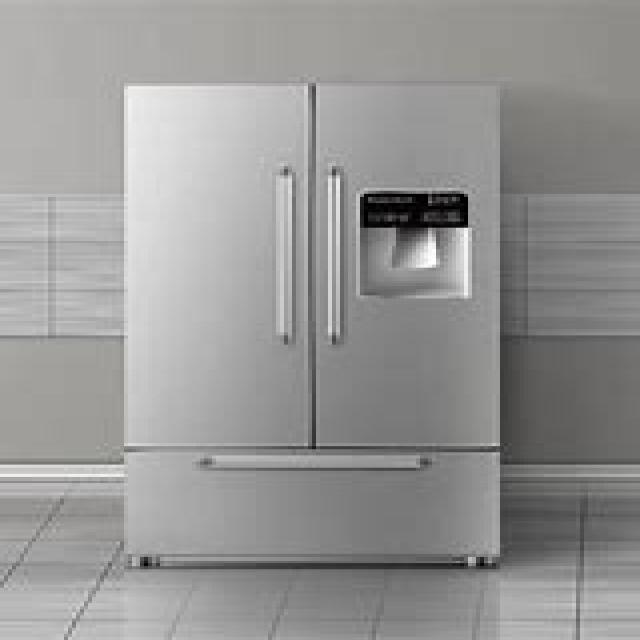fridge: (120, 80, 504, 566)
